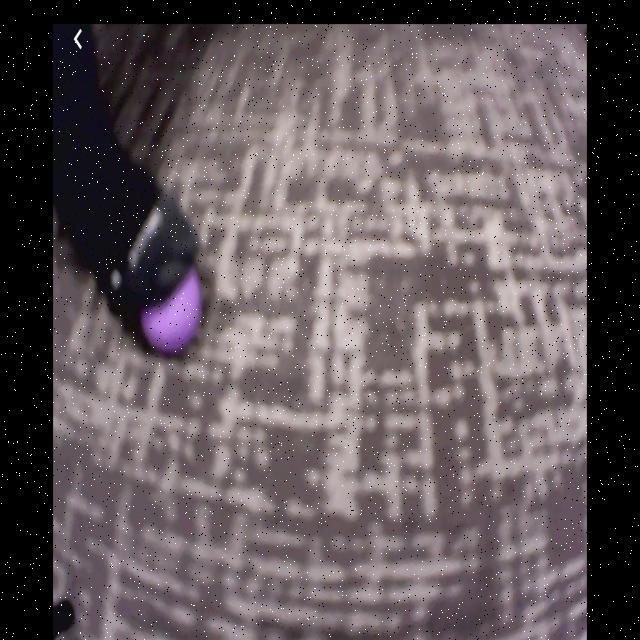ball: (139, 265, 204, 357)
